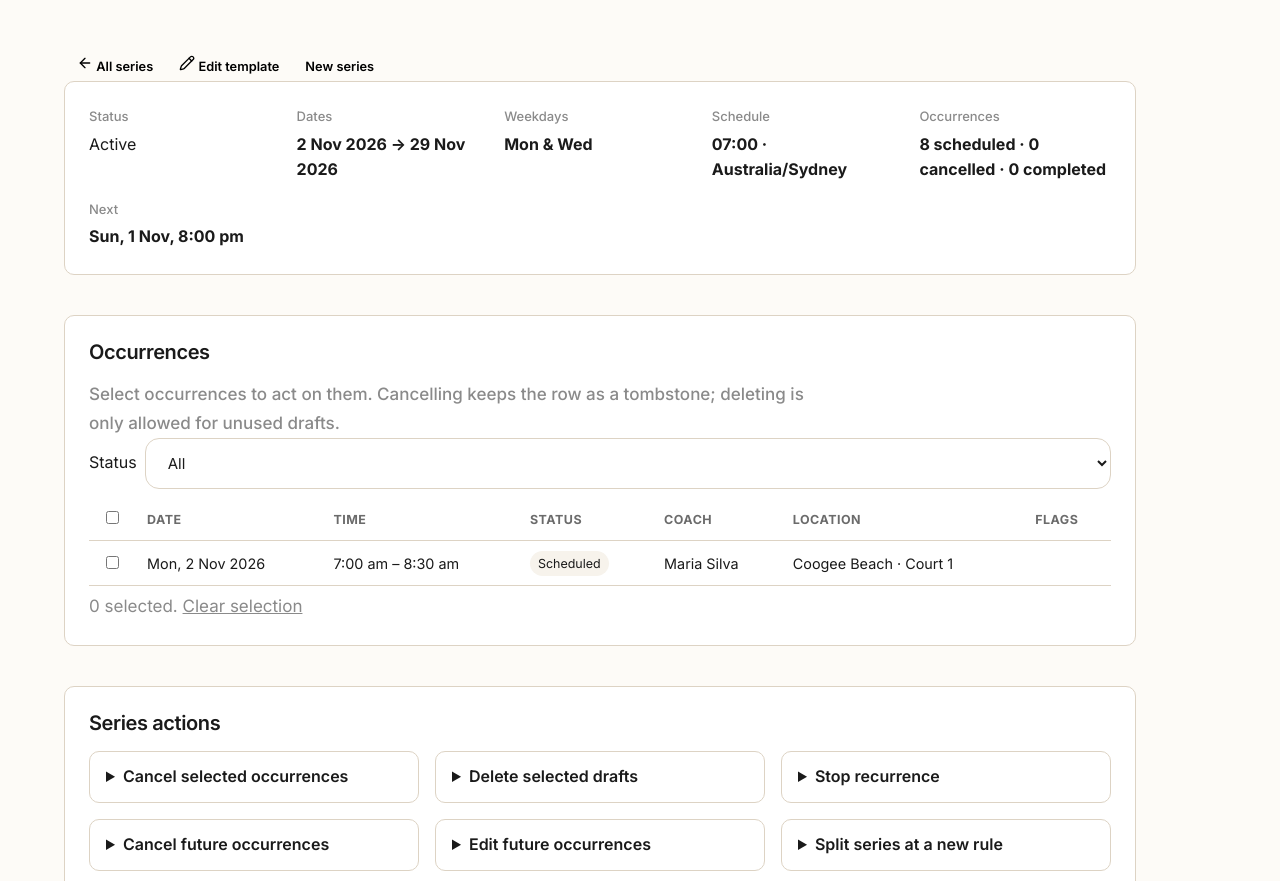
TrainingSeriesDetail › cancels the selected occurrence with a reason
Expected: the text "Maria Silva" is shown, [653,540,782,586]
Click the checkbox named "Select occurrence 2026-11-02T07:00" at (112, 562), box [100,556,125,569]
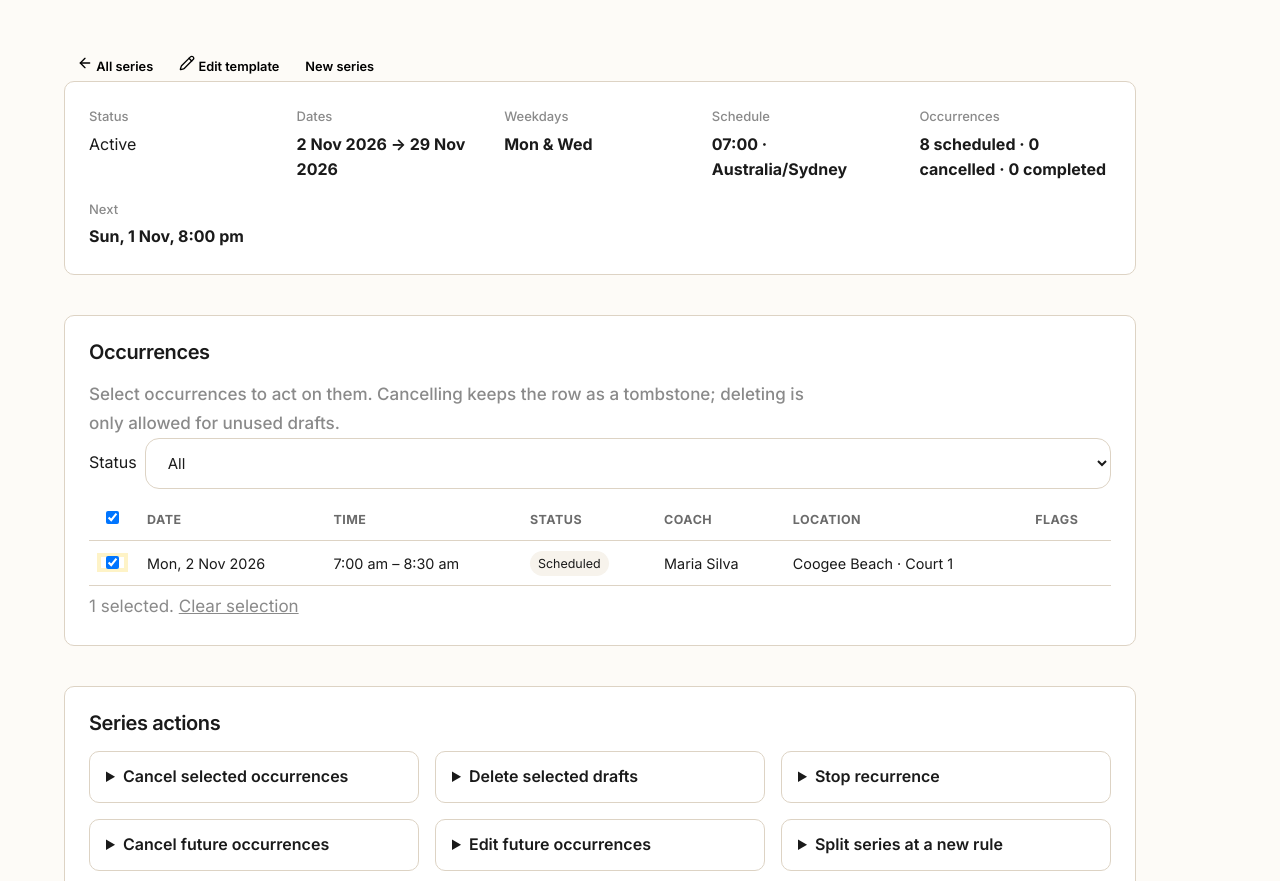
Expected: the text "Cancel selected occurrences" is shown, [89,751,419,803]
Click the heading "Cancel selected occurrences" at (236, 776), box [123,766,348,786]
(page scrolled)
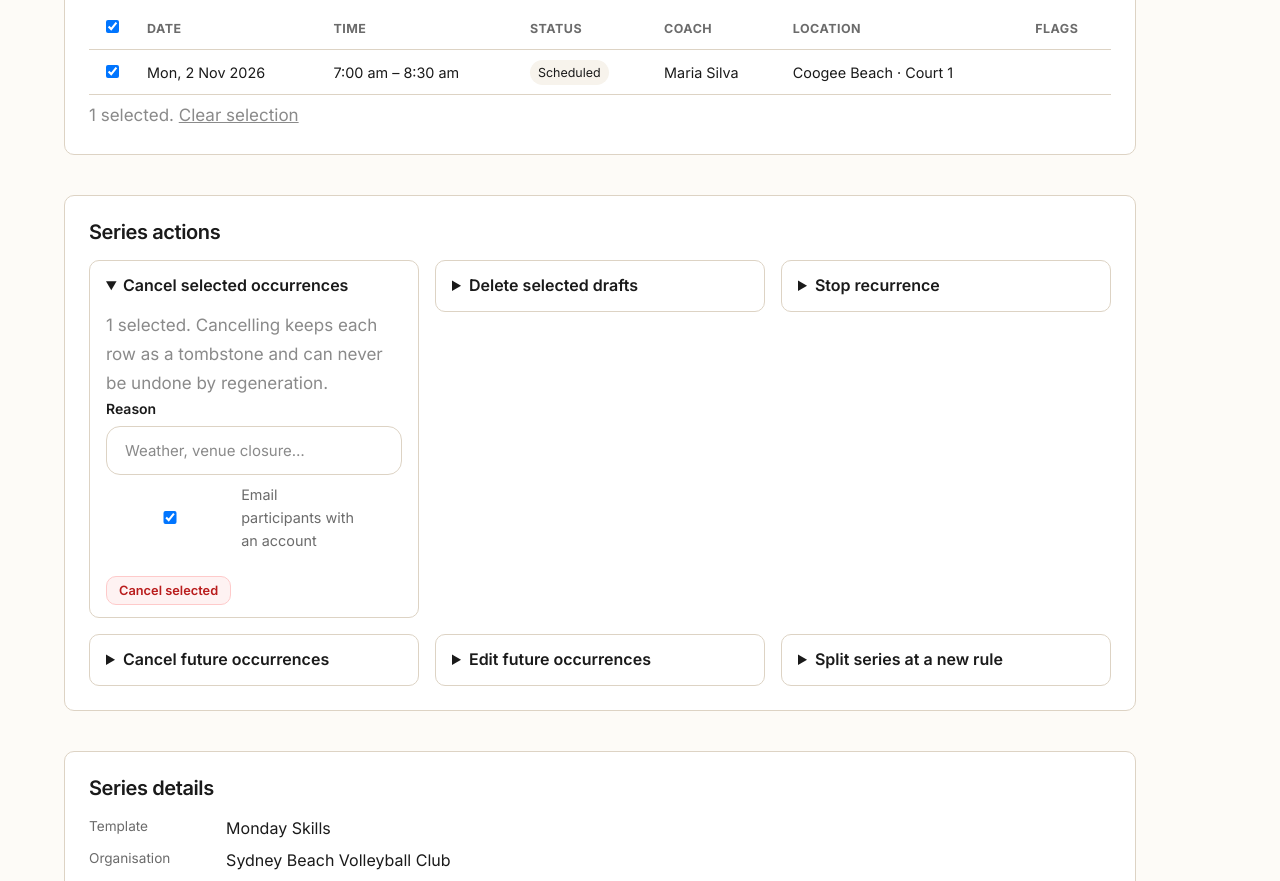
Type "Storm" into the field labelled "Reason" at (254, 450), box [106,426,402,475]
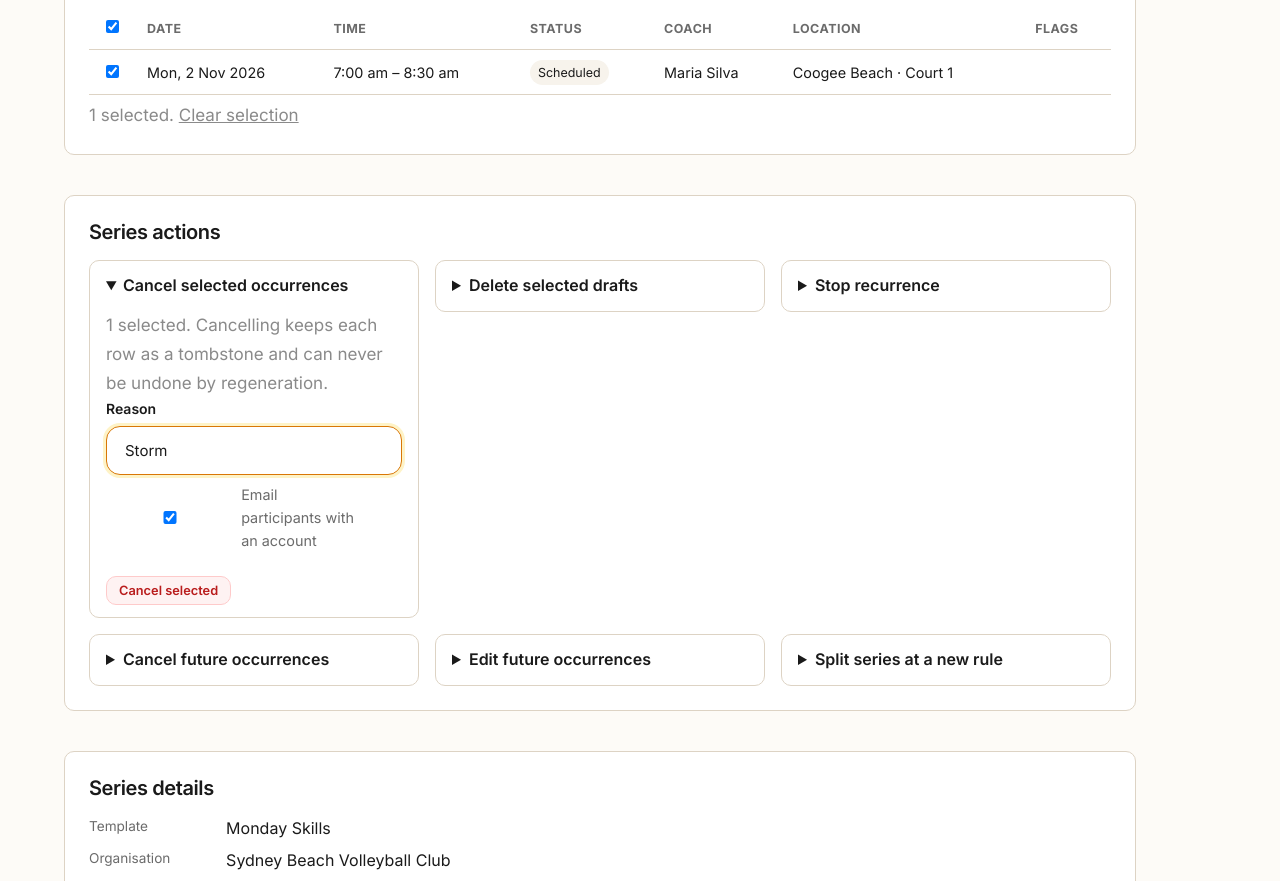
Click the button "Cancel selected" at (169, 591), box [106,576,231,605]
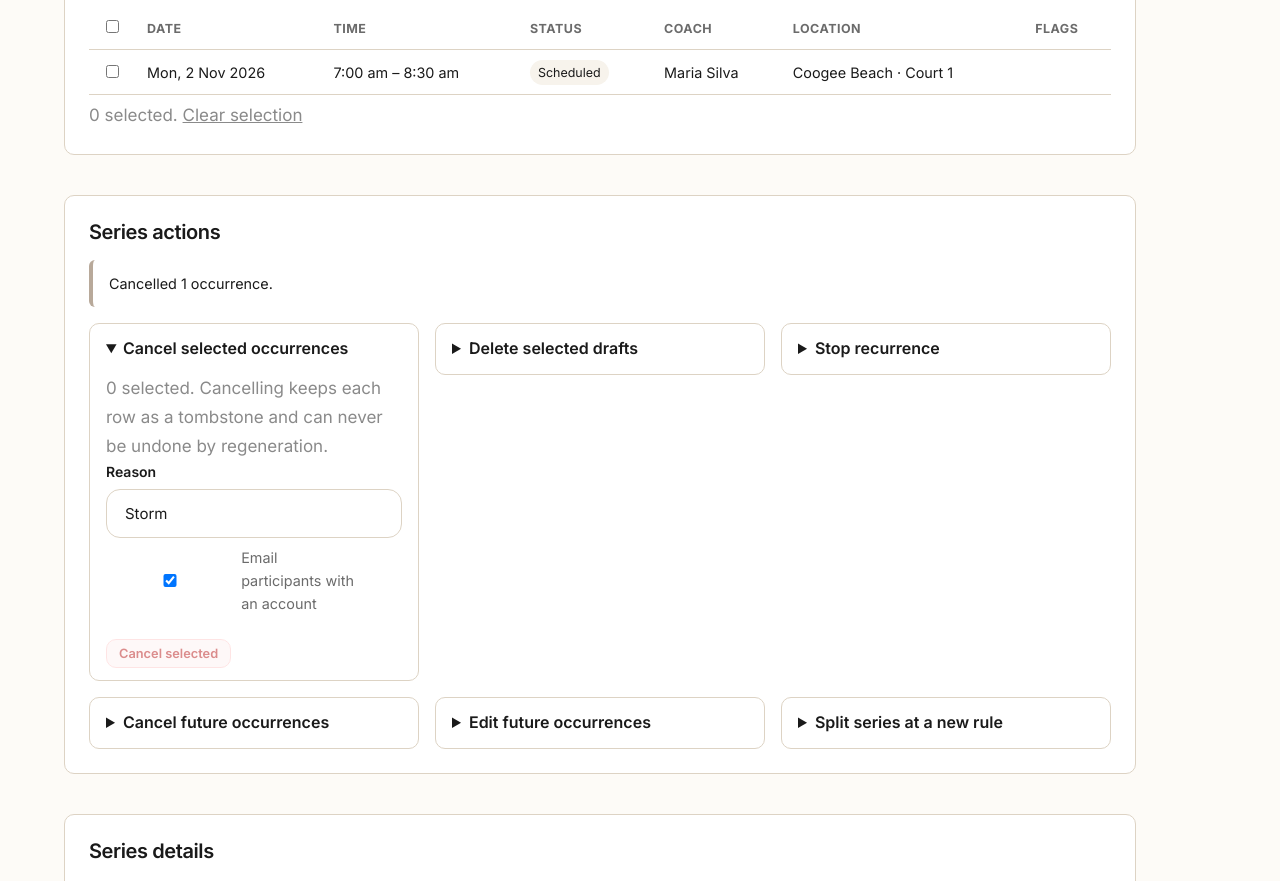
Result: the text "Cancelled 1 occurrence." is shown at [89,260,1111,307]
